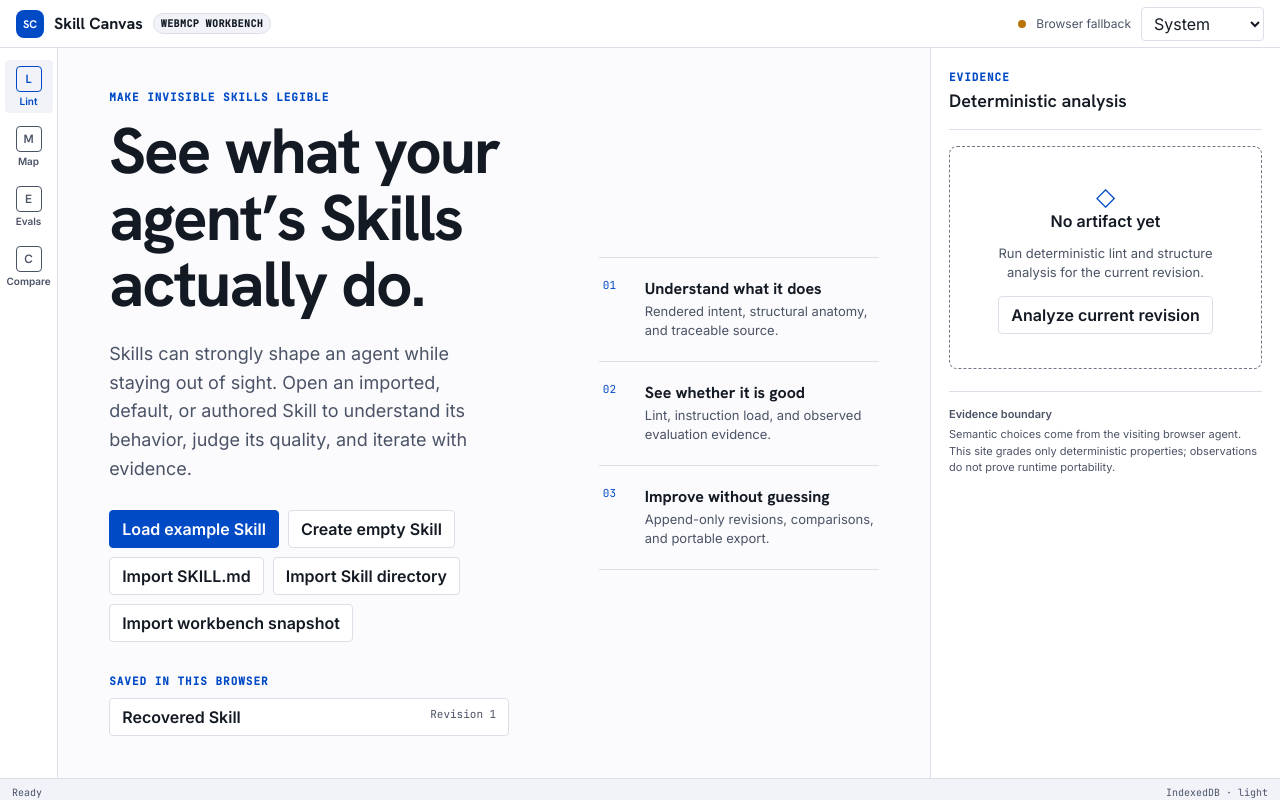
App WebMCP registration lifecycle › reopens a durable workspace without a session selection
Click the button "Recovered Skill Revision 1" at (181, 717), box [109,698,509,736]
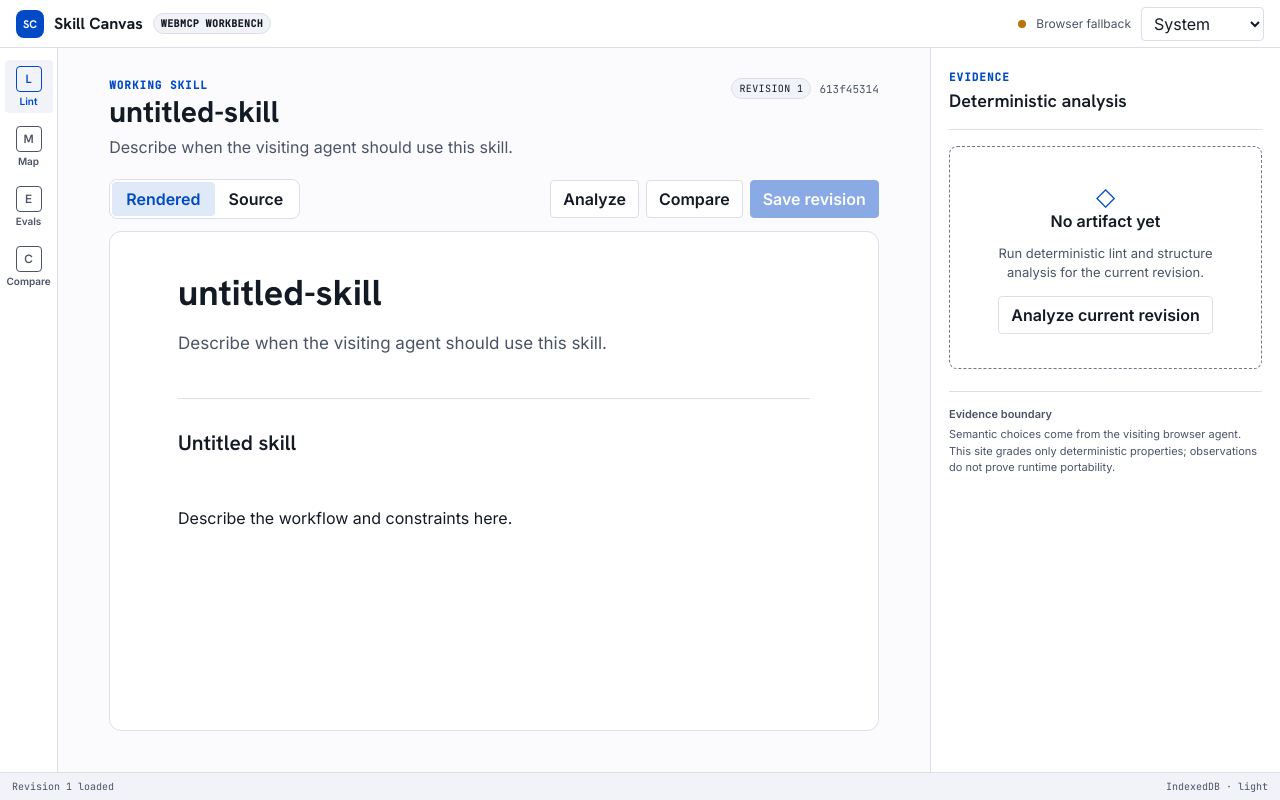
Check: the element with test id "skill-hero" is shown, box [109,231,879,731]
